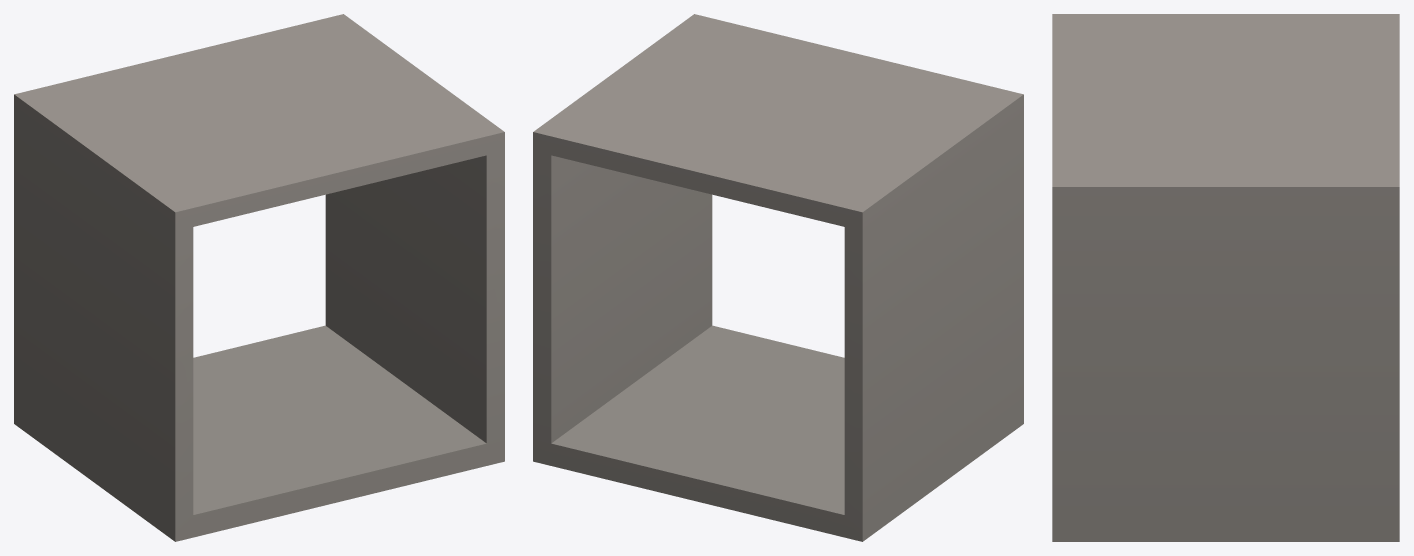
Rendered from Shelving_Hollow_Single_Grey.fbx.
3 renders of one model, left to right at view 1: azimuth 30°, elevation 25°; view 2: azimuth 150°, elevation 25°; view 3: azimuth 270°, elevation 25°, orthographic. The views are drawn at different scales.
Visible parts, largest first — view 1: Shelving_Hollow_Single_Grey; view 2: Shelving_Hollow_Single_Grey; view 3: Shelving_Hollow_Single_Grey.
Boxes of the visible parts, x1,y1,x2,y2 form: Shelving_Hollow_Single_Grey: [14, 14, 504, 541]; Shelving_Hollow_Single_Grey: [533, 14, 1023, 541]; Shelving_Hollow_Single_Grey: [1052, 14, 1399, 541].
Bounding box in the file's own units: 41.8 × 39.95 × 35.42.
